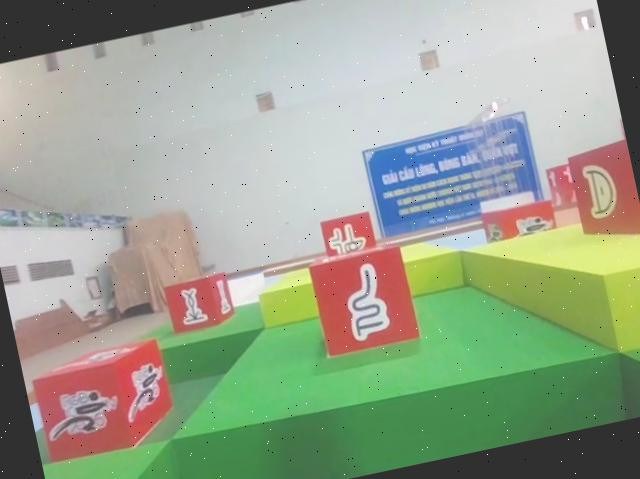R1: (24, 331, 183, 468)
R2 Fake: (305, 242, 422, 360)
R2 Real: (568, 143, 640, 245), (161, 273, 238, 335), (315, 209, 380, 274)
